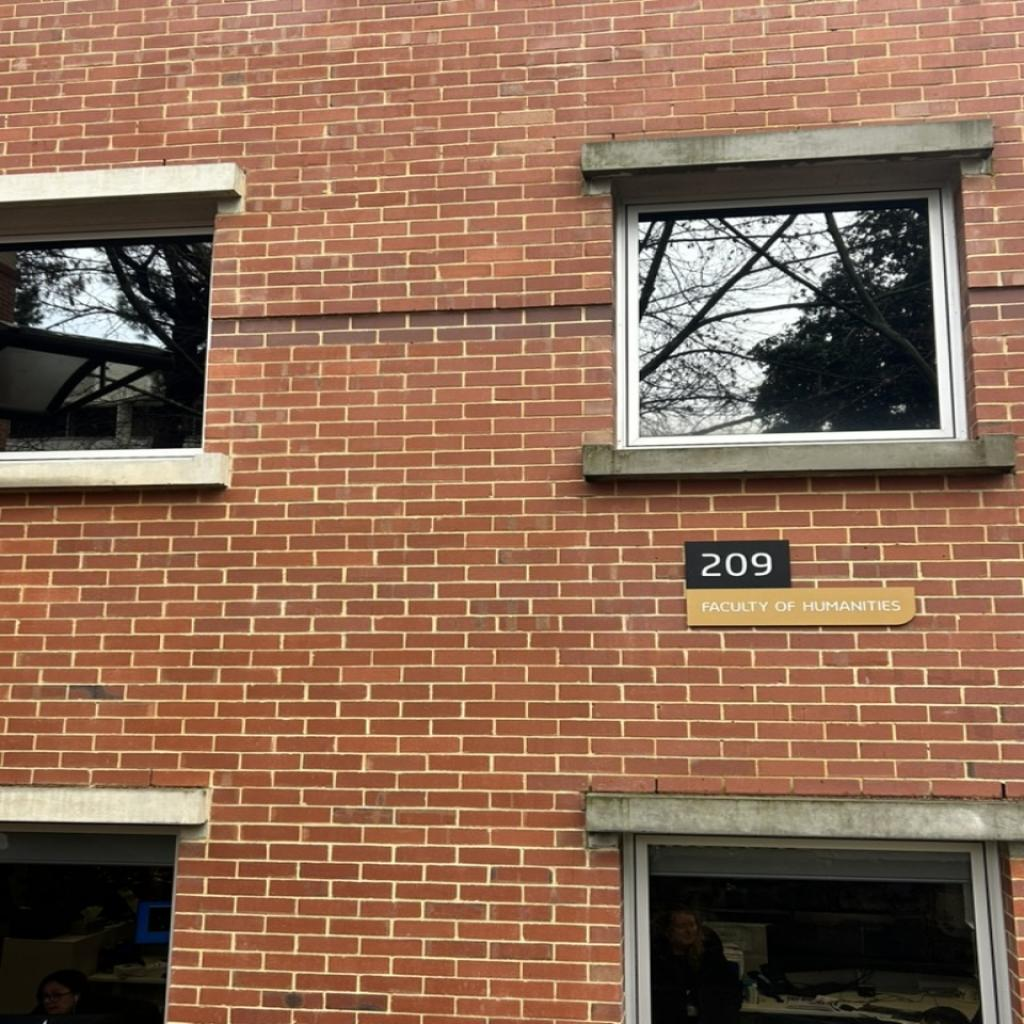BuildingCodes: (692, 547, 778, 583)
